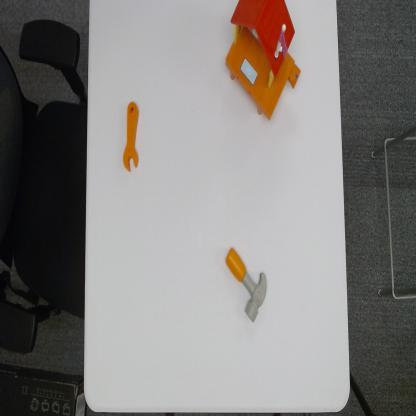Hammer: (224, 243, 267, 324)
House: (224, 0, 302, 123)
Screwdriver: (122, 100, 141, 172)
